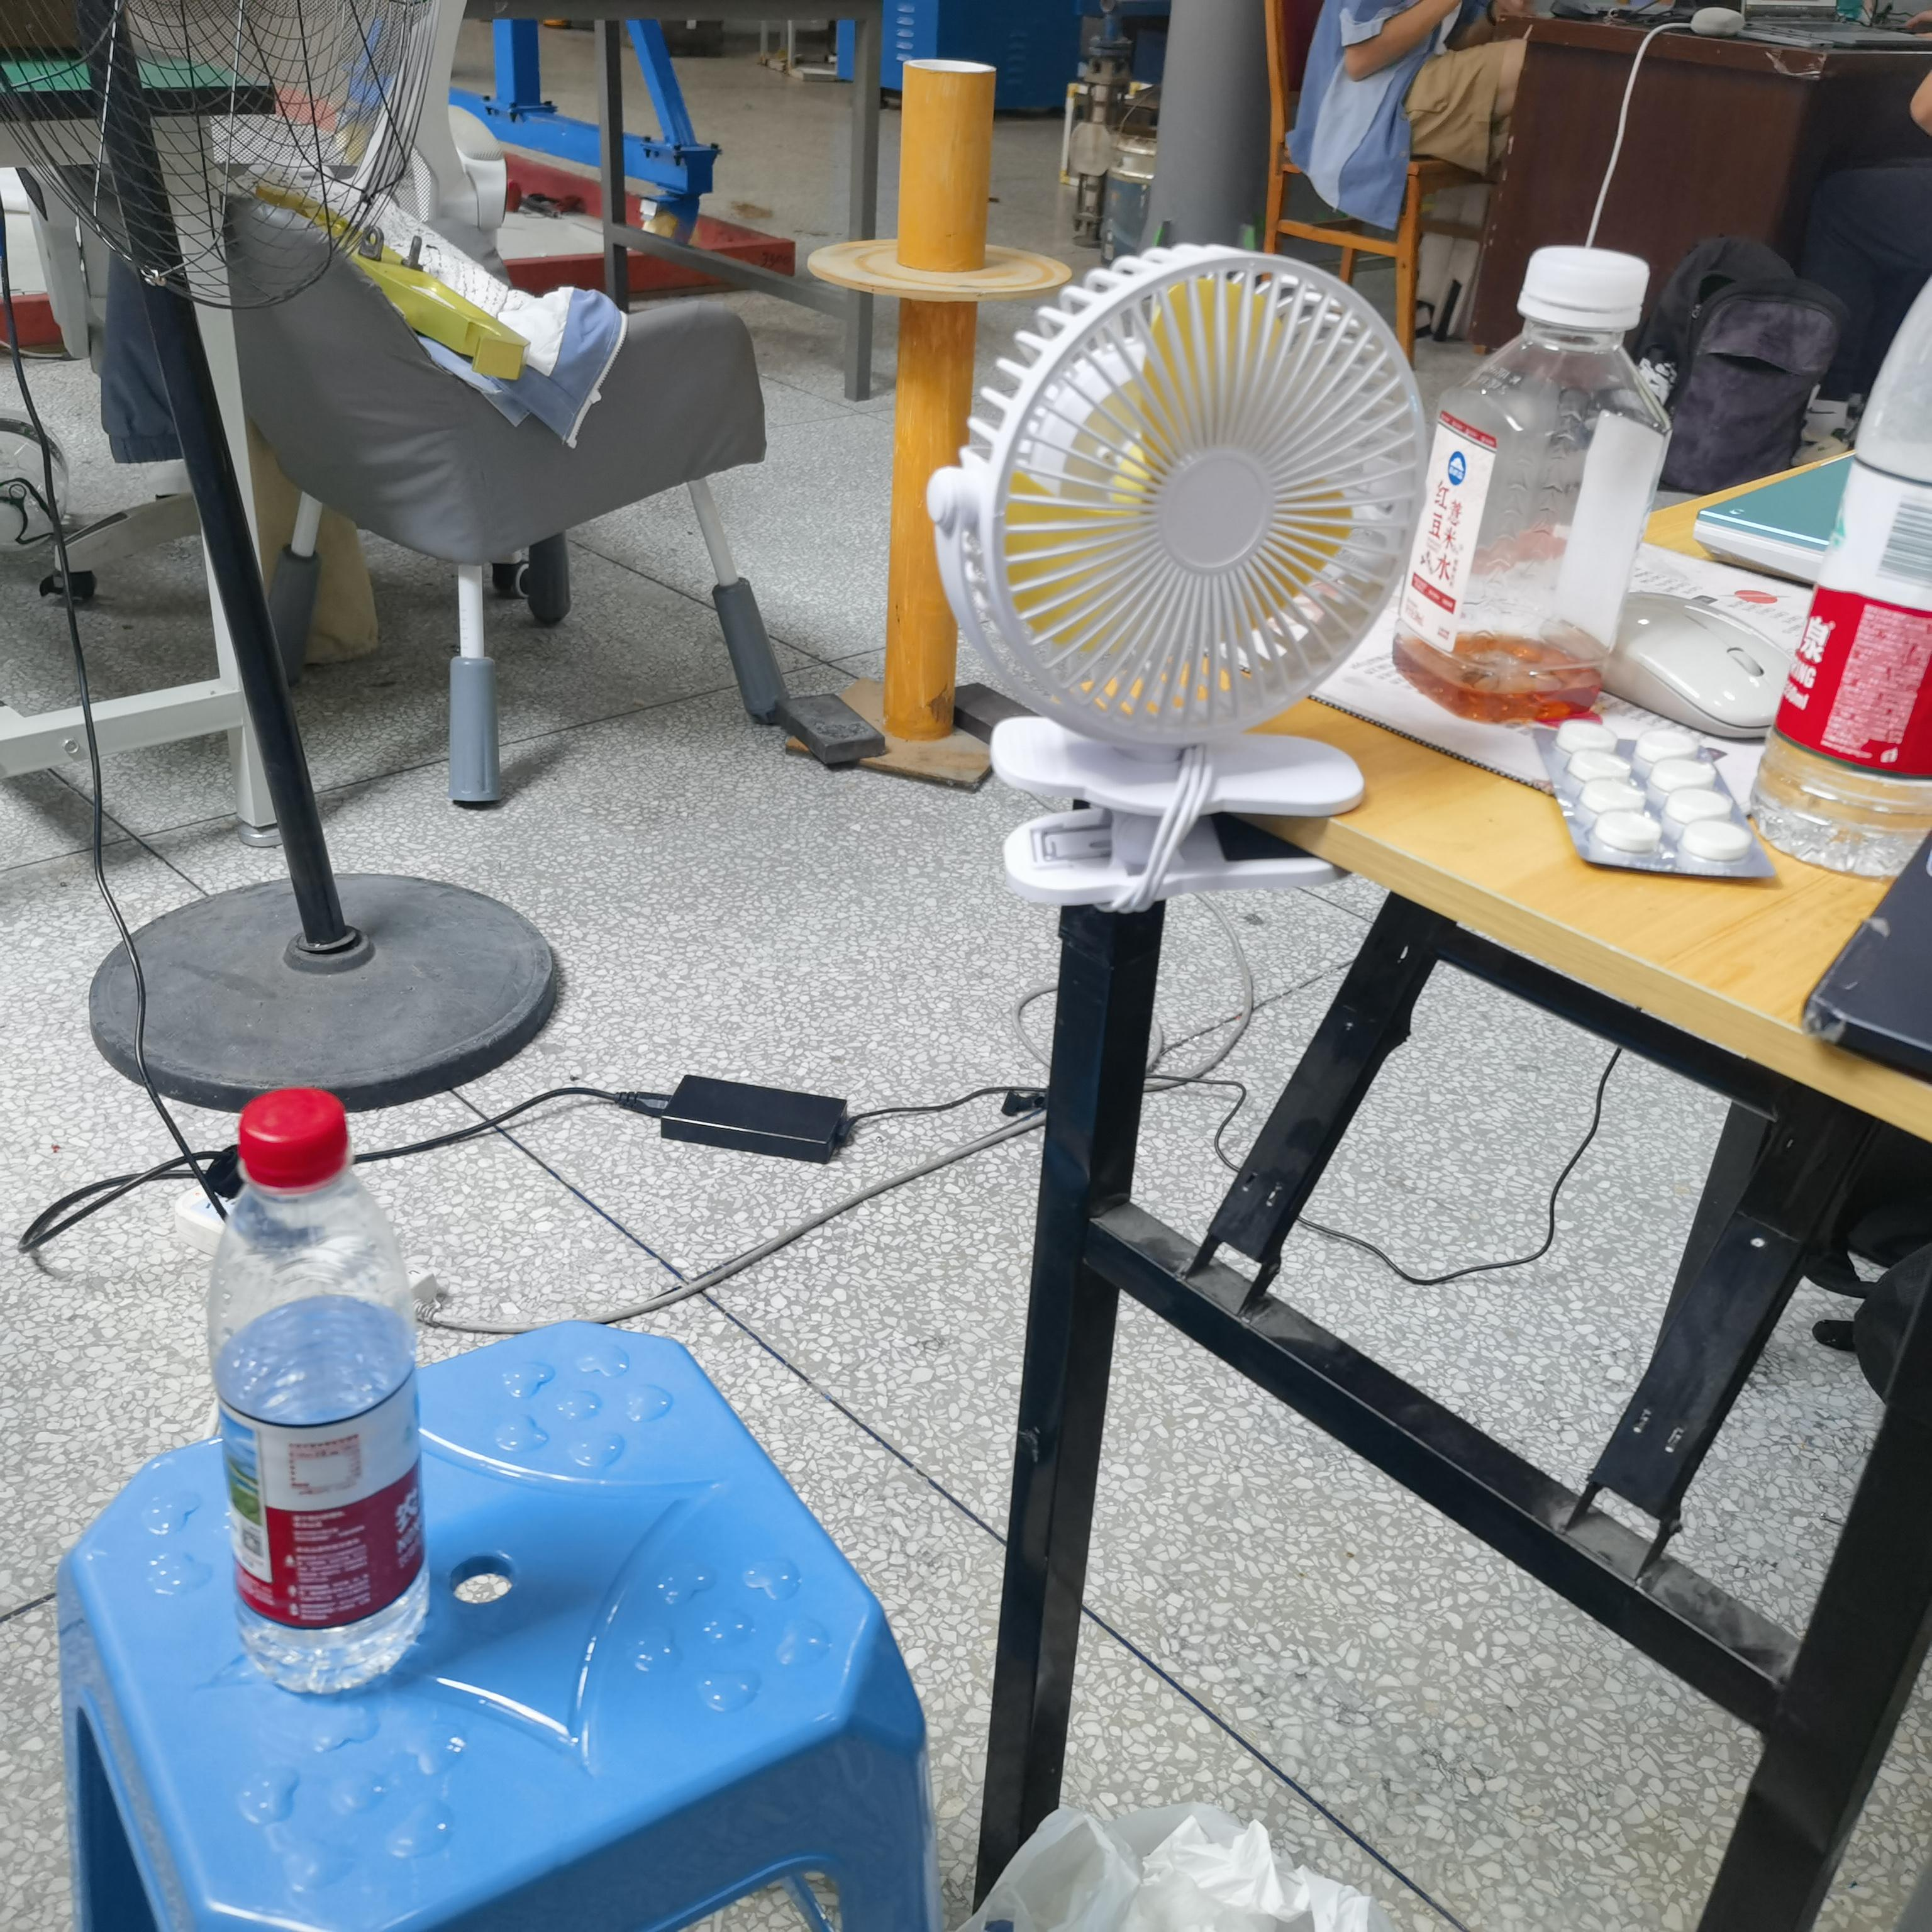bottle: (202, 1074, 441, 1707)
fan: (925, 237, 1437, 915)
